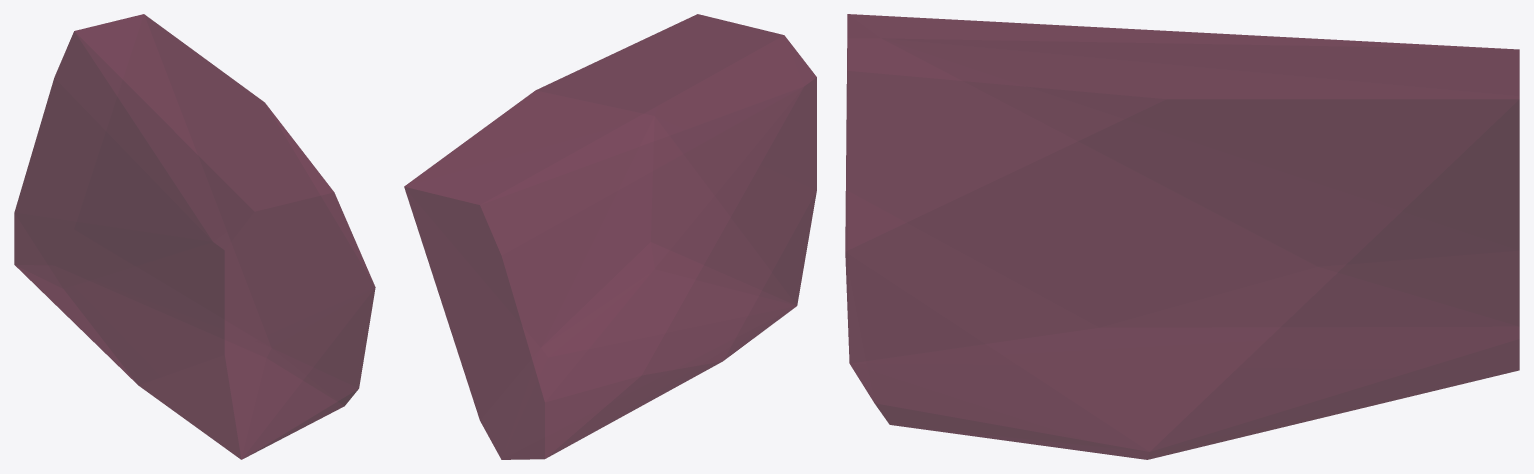
The picture shows the model from 3 angles, left to right: view 1: azimuth 30°, elevation 25°; view 2: azimuth 150°, elevation 25°; view 3: azimuth 270°, elevation 25°; orthographic projection. The views are drawn at different scales.
Parts seen in each view (by area): view 1: Shape_IndexedFaceSet.068_Shape_IndexedFaceSet.18044; view 2: Shape_IndexedFaceSet.068_Shape_IndexedFaceSet.18044; view 3: Shape_IndexedFaceSet.068_Shape_IndexedFaceSet.18044.
Boxes of the visible parts, box(x1,y1,x2,y2) form: Shape_IndexedFaceSet.068_Shape_IndexedFaceSet.18044: box(14, 14, 375, 459); Shape_IndexedFaceSet.068_Shape_IndexedFaceSet.18044: box(404, 14, 816, 459); Shape_IndexedFaceSet.068_Shape_IndexedFaceSet.18044: box(845, 14, 1519, 459).
Size of the model in its own units: 0.1146 by 0.1817 by 0.3049.
